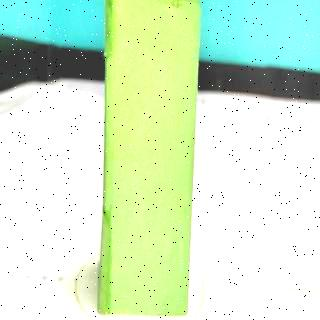greenbox: (96, 0, 202, 315)
